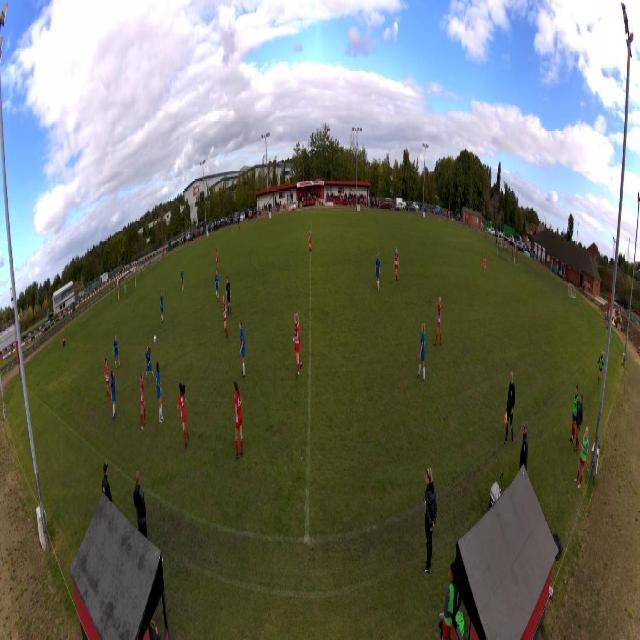ball: (153, 335, 157, 346)
player: (233, 381, 244, 460), (177, 382, 189, 448), (293, 310, 303, 378), (417, 321, 426, 386), (156, 362, 165, 422), (239, 320, 247, 381), (139, 371, 147, 431), (145, 343, 156, 385), (434, 297, 443, 346), (111, 369, 118, 423), (222, 293, 229, 339), (104, 358, 110, 400), (226, 277, 232, 317), (113, 336, 120, 367), (214, 269, 220, 303), (375, 254, 380, 293), (394, 247, 399, 284), (161, 291, 165, 323), (308, 228, 312, 256), (214, 247, 218, 274), (181, 268, 185, 290), (483, 254, 487, 276), (124, 283, 128, 299)
